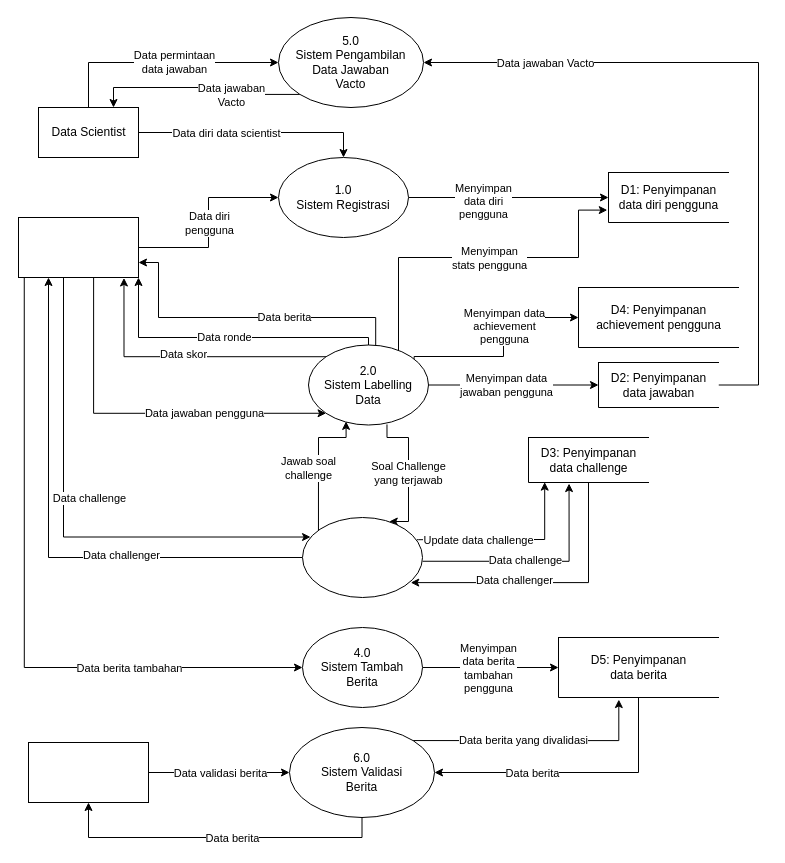
Some shapes in this 785 by 863 pixel diagram are drawn without their labels. Here are the shapes that lost their labels. From the top down, the centre of each, then its label:
At point (78, 247): "Pengguna Biasa".
At point (362, 557): "3.0 Sistem Challenge".
At point (88, 772): "Admin".
